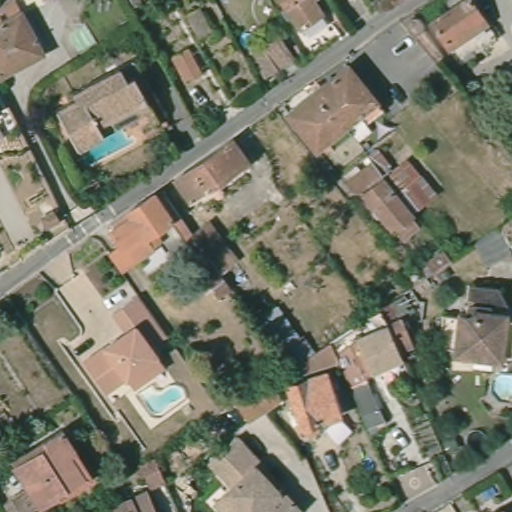pool: (138, 376, 188, 417), (83, 125, 134, 165), (490, 367, 512, 410)
